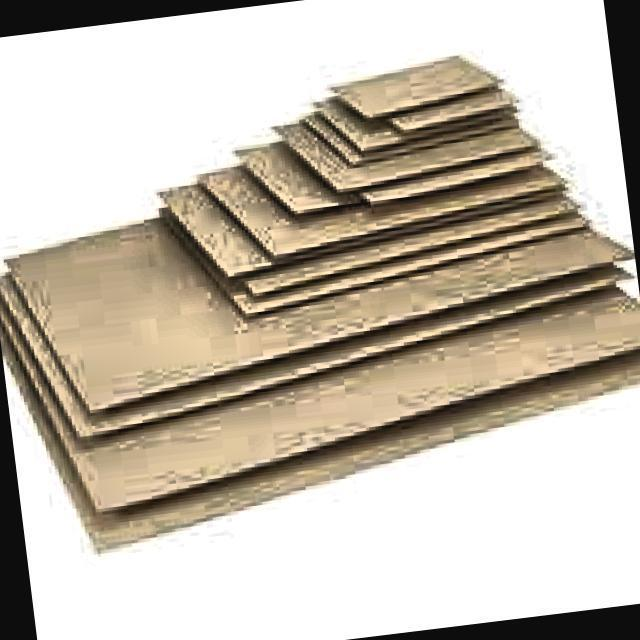cardboard: (0, 30, 640, 562)
